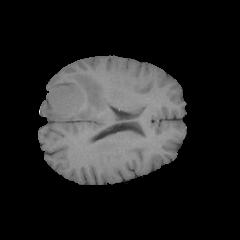glioma: (44, 73, 111, 120)
